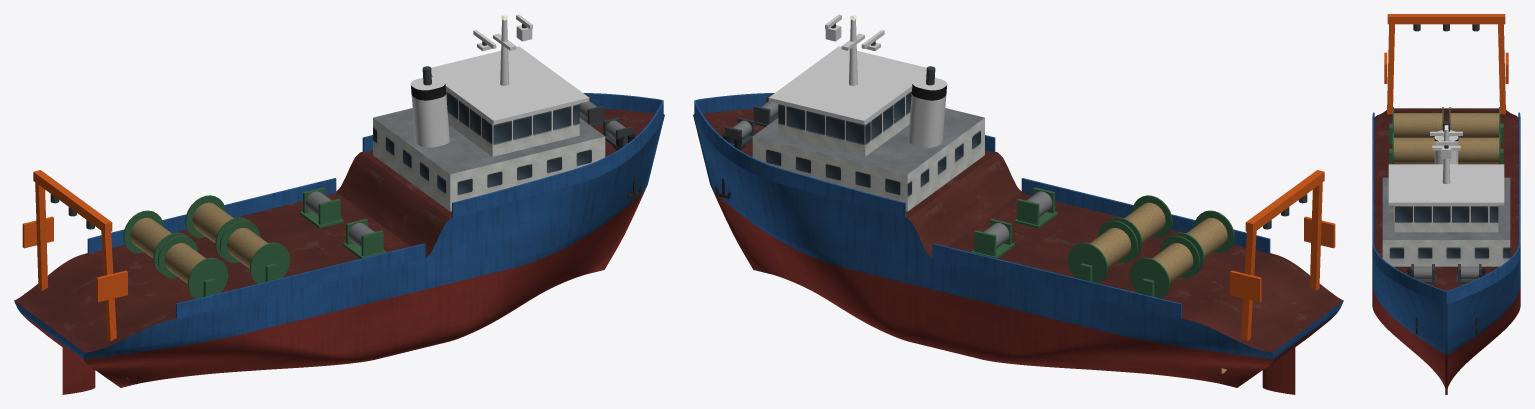
Rendered from commercial-trawler.glb.
3 renders of one model, left to right at view 1: azimuth 30°, elevation 25°; view 2: azimuth 150°, elevation 25°; view 3: azimuth 270°, elevation 25°, orthographic. The views are drawn at different scales.
Visible parts, largest first — view 1: Hull, Wheelhouse, Bulwarks, Superstructure, Net drums, Stern gantry, Funnel, Trawl winches, Mast, Foredeck gear, Rudder; view 2: Hull, Wheelhouse, Bulwarks, Superstructure, Net drums, Stern gantry, Funnel, Trawl winches, Mast, Foredeck gear, Rudder; view 3: Hull, Wheelhouse, Superstructure, Net drums, Stern gantry, Bulwarks, Foredeck gear, Mast, Funnel.
Part boxes in pixels (x1,y1,x2,y2): Hull: [14, 109, 664, 387]; Wheelhouse: [431, 46, 589, 156]; Bulwarks: [87, 93, 663, 319]; Superstructure: [373, 108, 605, 211]; Net drums: [123, 195, 290, 298]; Stern gantry: [22, 170, 127, 341]; Funnel: [410, 66, 449, 147]; Trawl winches: [300, 187, 386, 258]; Mast: [473, 14, 532, 85]; Foredeck gear: [579, 96, 635, 150]; Rudder: [62, 347, 95, 394]; Hull: [693, 109, 1343, 387]; Wheelhouse: [768, 46, 926, 156]; Bulwarks: [694, 93, 1270, 319]; Superstructure: [752, 108, 984, 211]; Net drums: [1067, 195, 1234, 298]; Stern gantry: [1230, 170, 1335, 341]; Funnel: [908, 66, 947, 147]; Trawl winches: [971, 187, 1057, 258]; Mast: [825, 14, 884, 85]; Foredeck gear: [722, 96, 778, 150]; Rudder: [1262, 347, 1295, 394]; Hull: [1372, 108, 1520, 394]; Wheelhouse: [1388, 164, 1504, 232]; Superstructure: [1382, 177, 1510, 266]; Net drums: [1389, 107, 1503, 164]; Stern gantry: [1384, 14, 1508, 114]; Bulwarks: [1372, 112, 1520, 303]; Foredeck gear: [1407, 264, 1485, 283]; Mast: [1430, 125, 1462, 184]; Funnel: [1434, 121, 1458, 164].
Bounding box in the file's own units: 49.53 × 21.44 × 12.6.
Materials: 18 (18 with a texture image).
